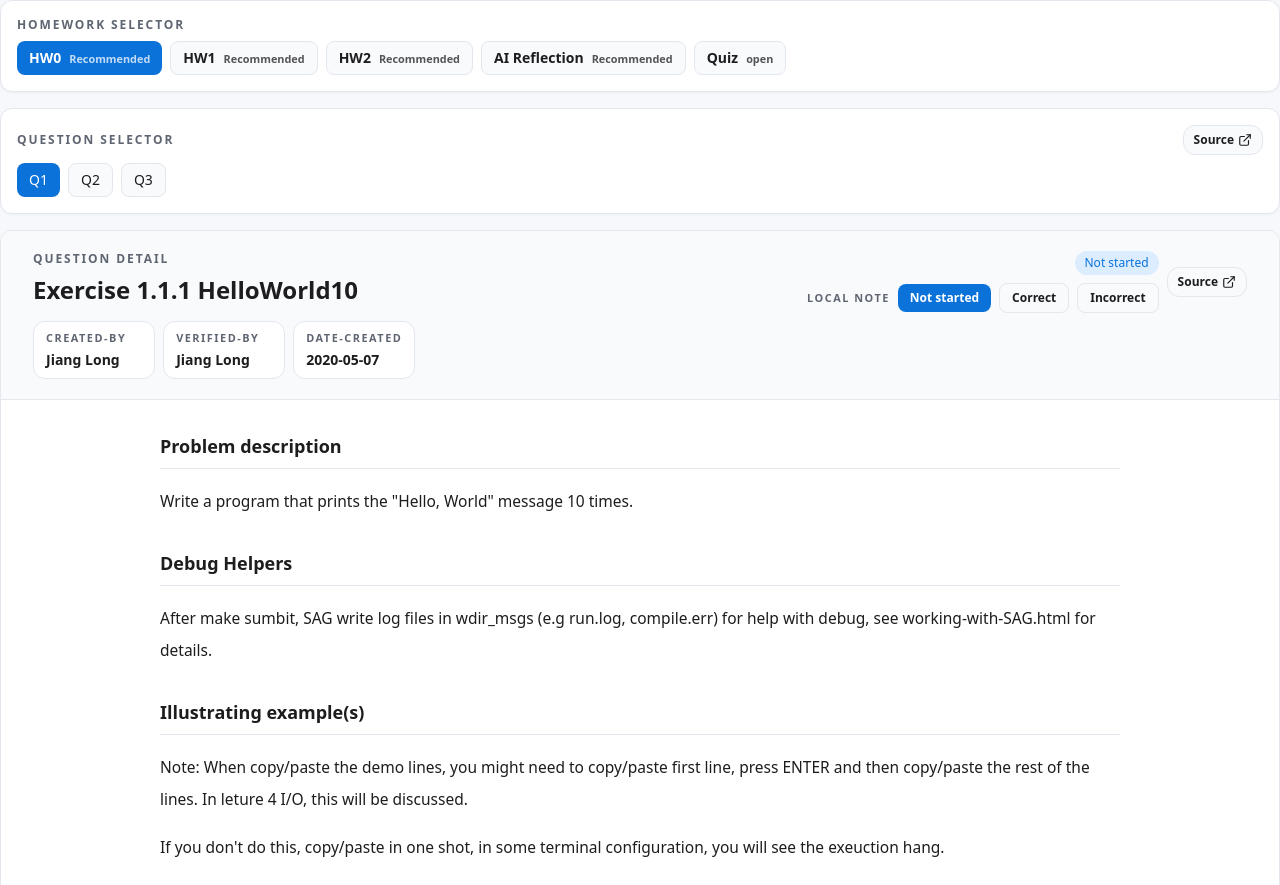
Scenario: HomeworkPracticeBoard › shows reflections and quiz in the same selector without rendering quiz answers
Expected: the button "AI ReflectionRecommended" is shown, [481, 41, 686, 75]
Click the button "Quiz": click(740, 58) [694, 41, 786, 75]
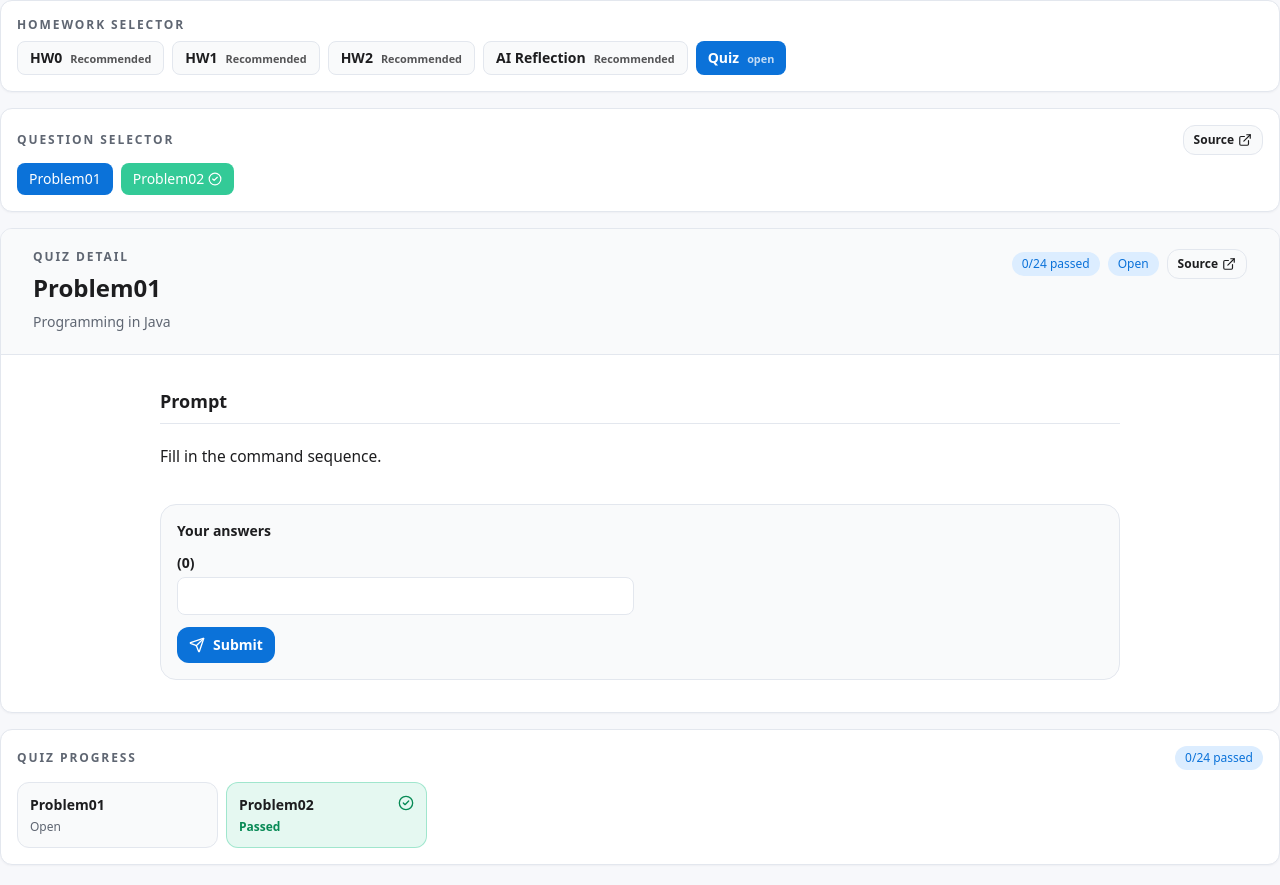
Expected: the button "Problem01" is shown, [17, 163, 113, 195]
Expected: the button "Problem02" is shown, [121, 163, 234, 195]
Expected: the text "Passed" is shown, [239, 818, 280, 835]
